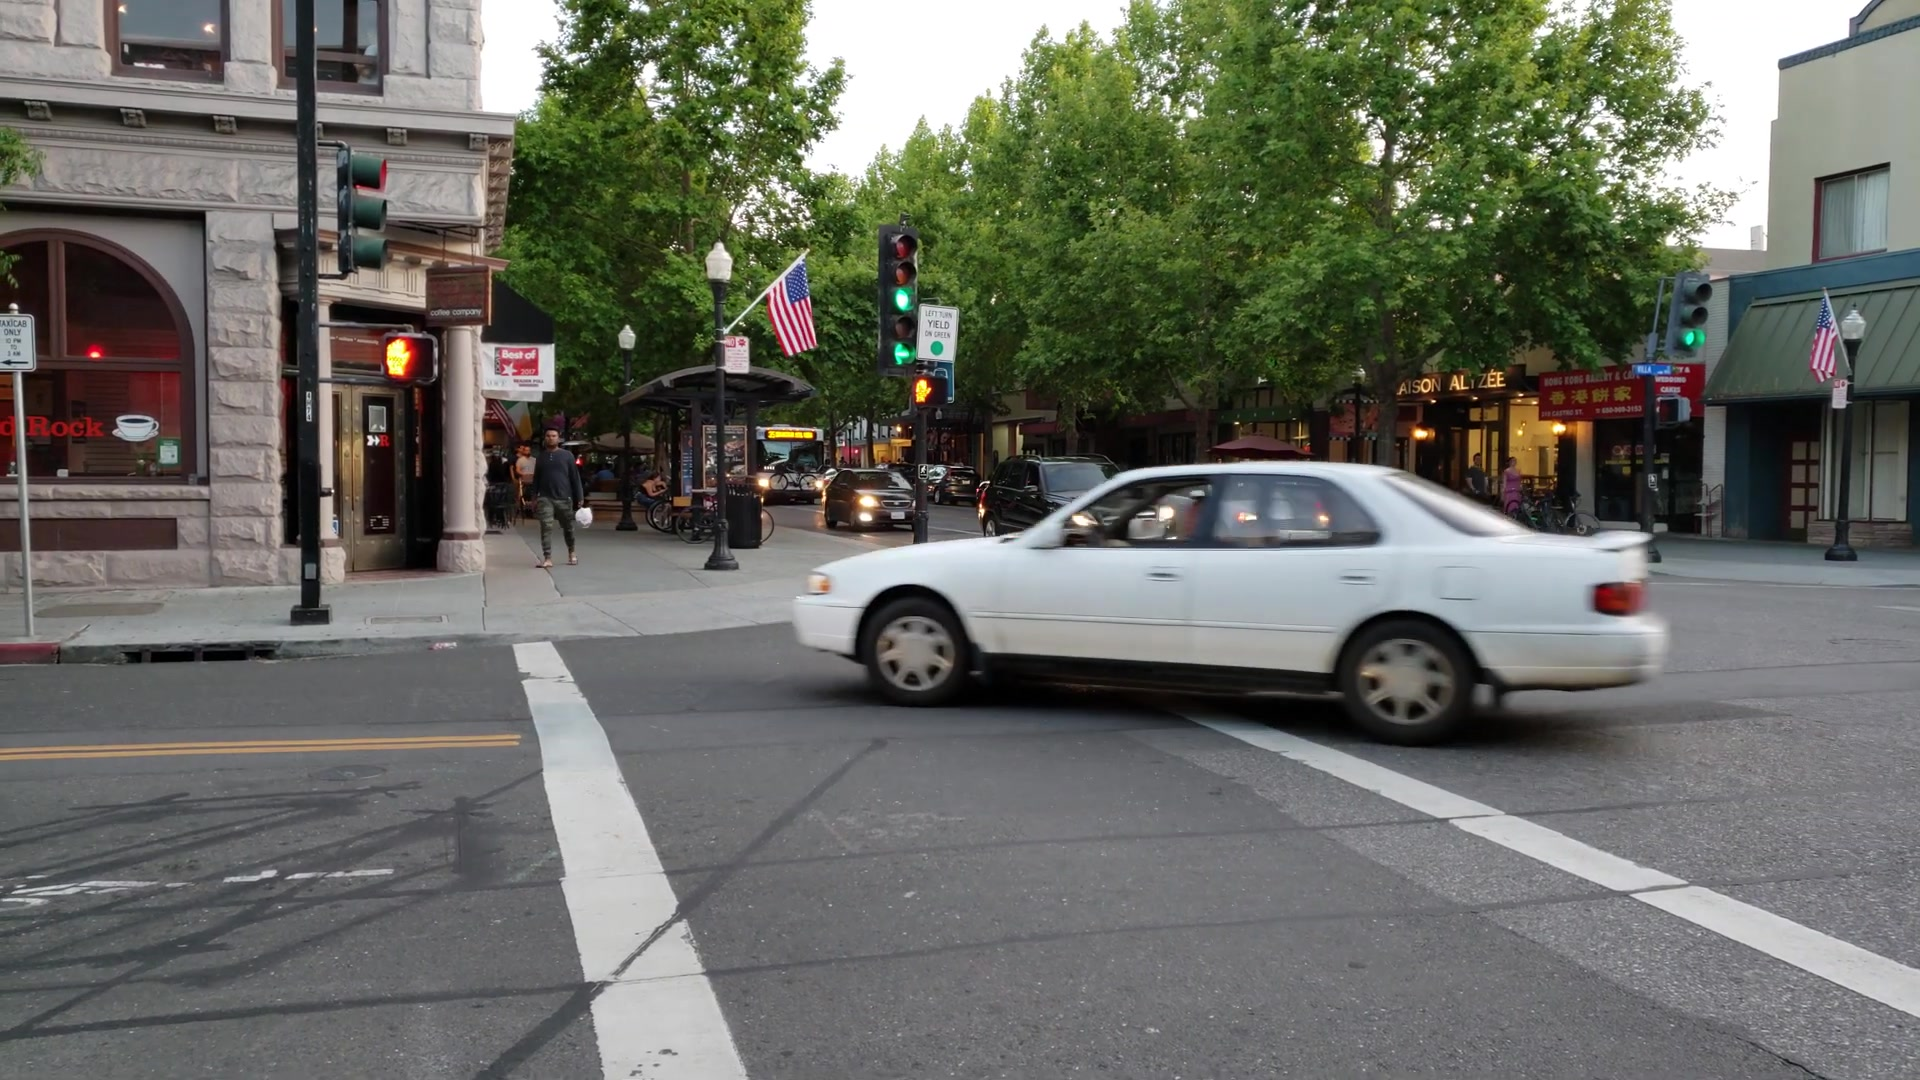vehicle: (794, 462, 1665, 740)
